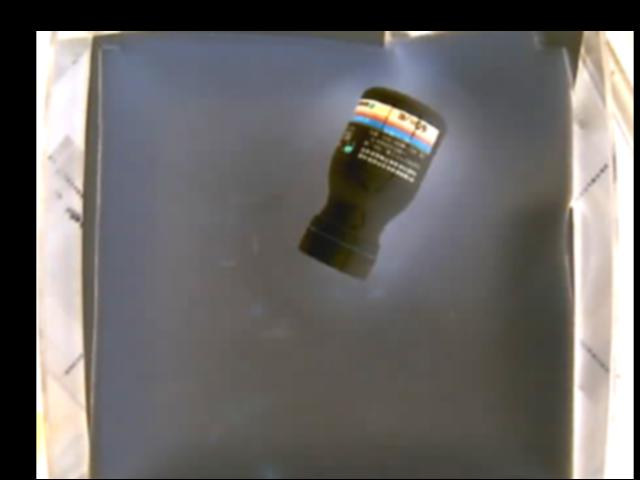Bottle: (297, 85, 446, 279)
